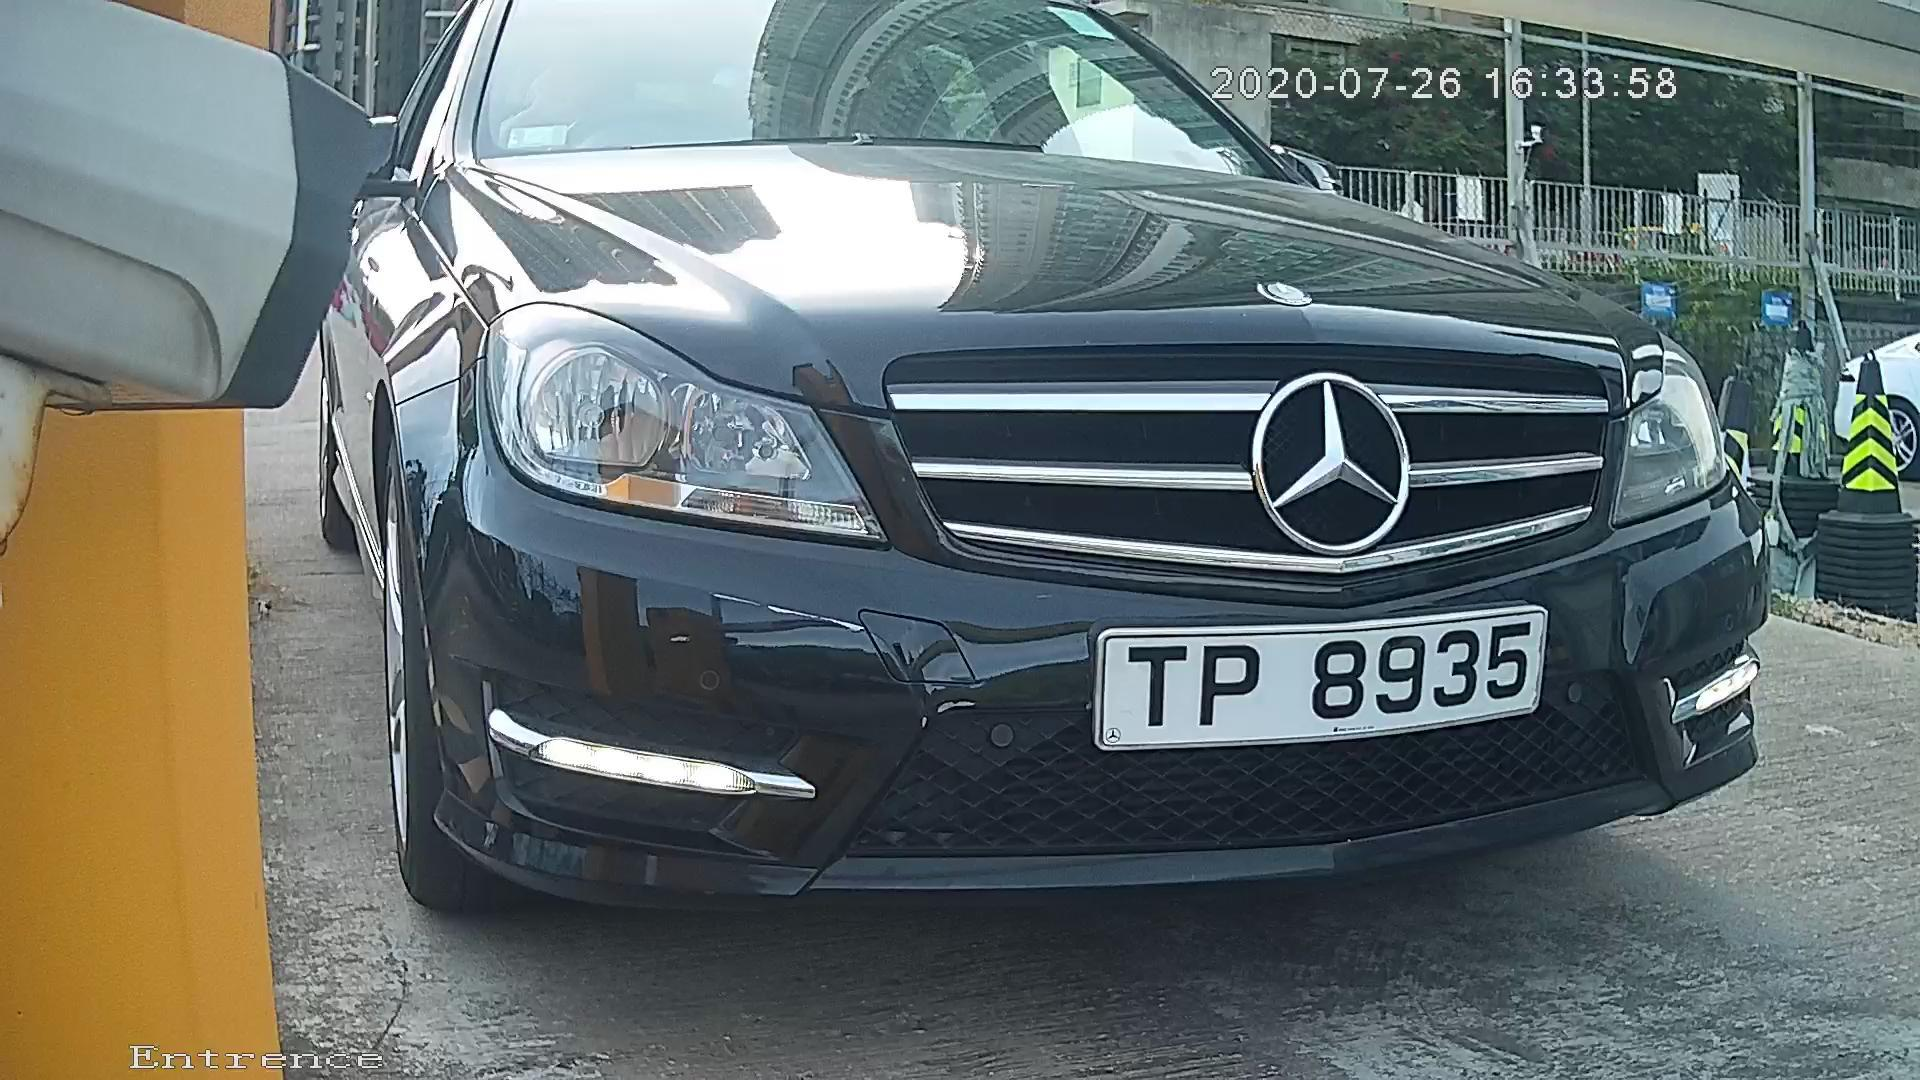privatecar: (206, 29, 1903, 994)
